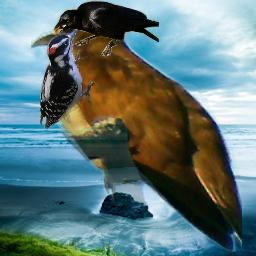Crow: (52, 0, 159, 56)
Cuckoo: (31, 7, 242, 256)
Woodpecker: (40, 27, 95, 129)
